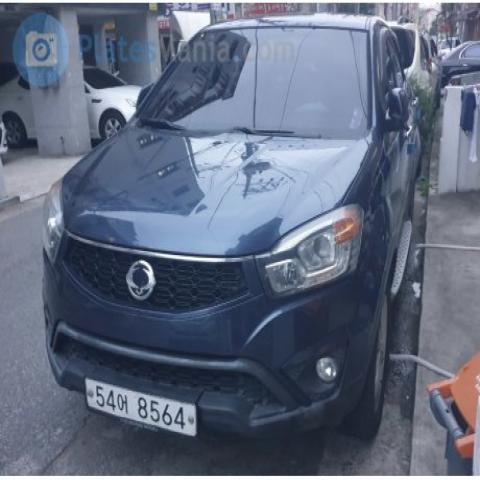LP: (78, 368, 206, 451)
